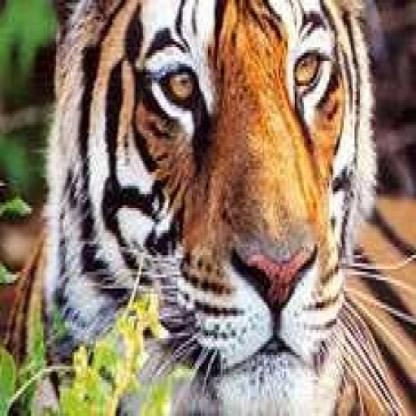Tiger: (33, 0, 415, 415)
